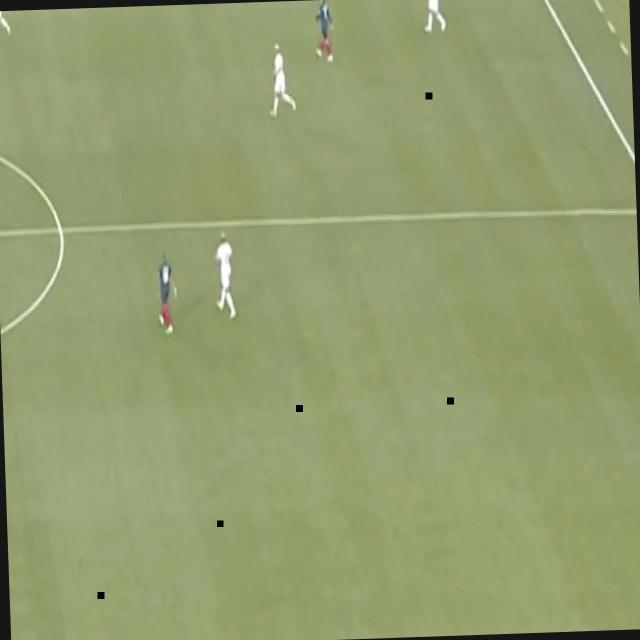player-white: (265, 42, 297, 120), (214, 234, 238, 324), (155, 252, 178, 334), (314, 0, 336, 64), (422, 0, 448, 35), (0, 10, 12, 40)
